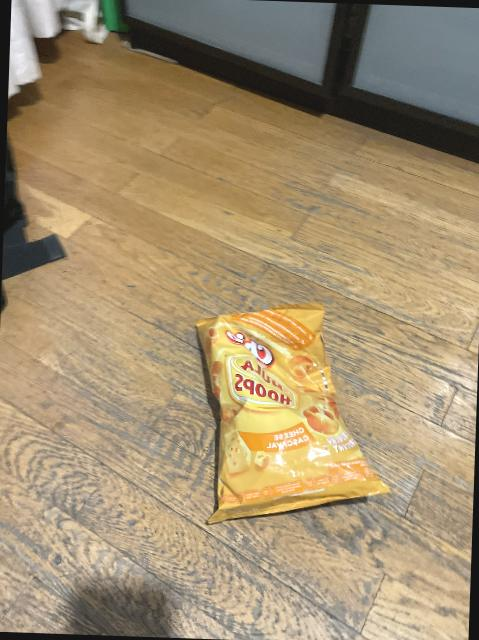Chio Hula Hoops Cheese 70g: (186, 305, 395, 532)
